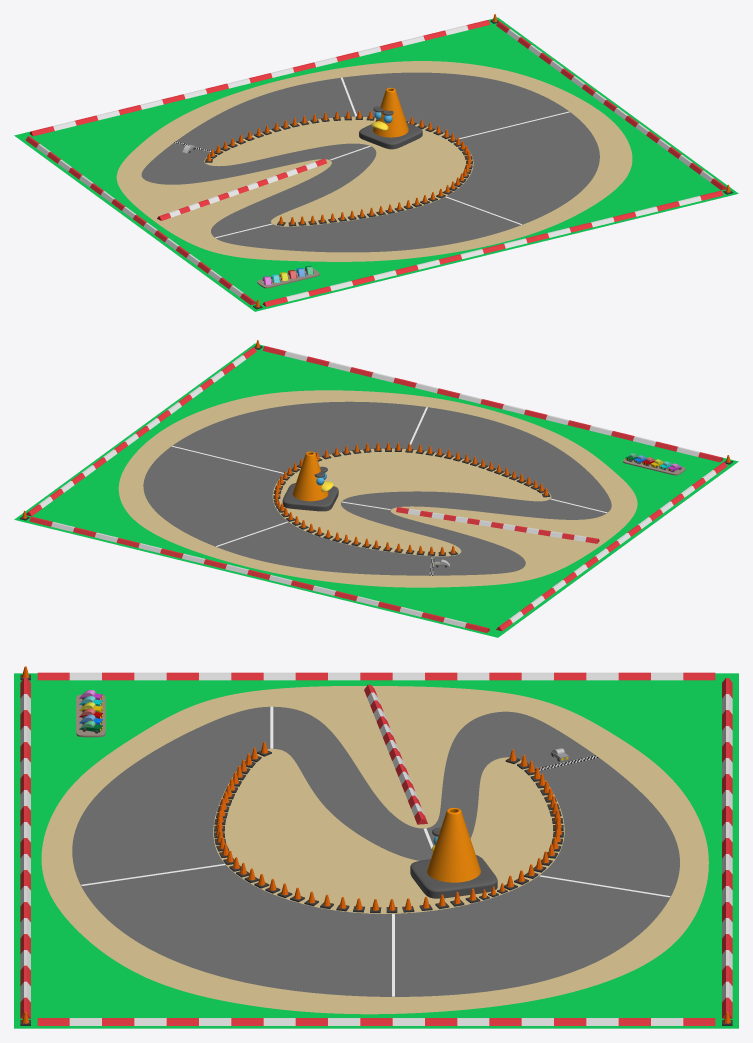
The model's file is Track007.fbx.
3 renders of one model, top to bottom at view 1: azimuth 30°, elevation 25°; view 2: azimuth 150°, elevation 25°; view 3: azimuth 270°, elevation 25°, orthographic. The views are drawn at different scales.
Visible parts, largest first — view 1: Plane, Gravel, Grass, Barrier.001, Barrier.006, Barrier.007, Barrier.008, Barrier.009, BigConeTop, BigConeBase; view 2: Plane, Gravel, Grass, Barrier.001, Barrier.006, Barrier.007, Barrier.008, Barrier.009, BigConeTop, BigConeBase; view 3: Plane, Gravel, Grass, Barrier.008, Barrier.007, Barrier.001, Barrier.006, BigConeTop, BigConeBase, Barrier.009.
Part boxes in pixels (x1,y1,x2,y2): Plane: (141,72,599,252); Gravel: (116,61,632,261); Grass: (14,17,738,311); Barrier.001: (29,20,490,136); Barrier.006: (262,190,723,306); Barrier.007: (496,21,726,190); Barrier.008: (25,136,256,304); Barrier.009: (157,158,326,220); BigConeTop: (373,87,408,137); BigConeBase: (359,123,422,149); Plane: (143,401,611,575); Gravel: (118,390,637,587); Grass: (14,343,738,637); Barrier.001: (29,516,490,632); Barrier.006: (262,346,723,462); Barrier.007: (26,347,256,516); Barrier.008: (496,462,727,630); Barrier.009: (396,507,599,543); BigConeTop: (292,451,328,501); BigConeBase: (282,483,338,511); Plane: (72,706,679,996); Gravel: (41,686,708,1014); Grass: (14,673,738,1028); Barrier.008: (37,672,715,680); Barrier.007: (37,1018,715,1025); Barrier.001: (722,678,732,1018); Barrier.006: (20,678,30,1018); BigConeTop: (427,807,480,882); BigConeBase: (410,855,497,898); Barrier.009: (364,684,427,824).
Size of the model in its own units: 230 by 198 by 21.03.
